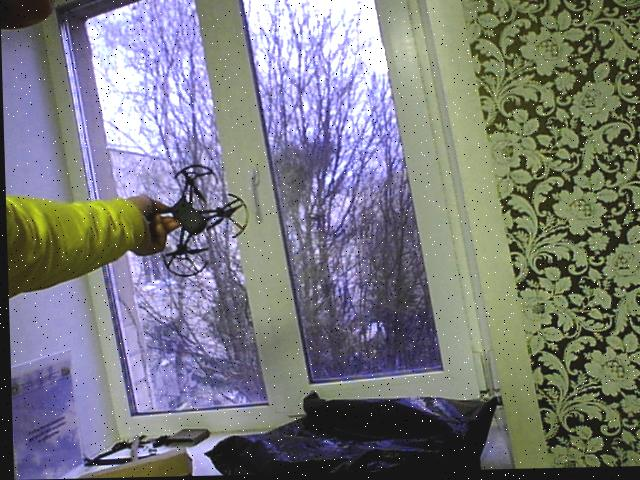drone: (135, 160, 257, 290)
